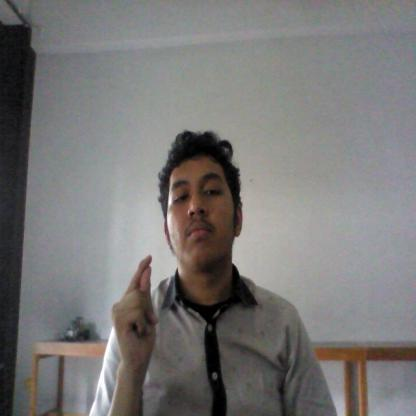R: (106, 253, 167, 368)
